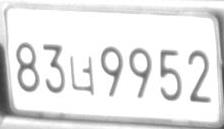2: (188, 49, 211, 103)
3: (43, 43, 65, 93)
5: (159, 49, 182, 101)
8: (15, 41, 40, 92)
9: (99, 46, 123, 97), (128, 47, 151, 98)
너: (69, 56, 94, 93)
